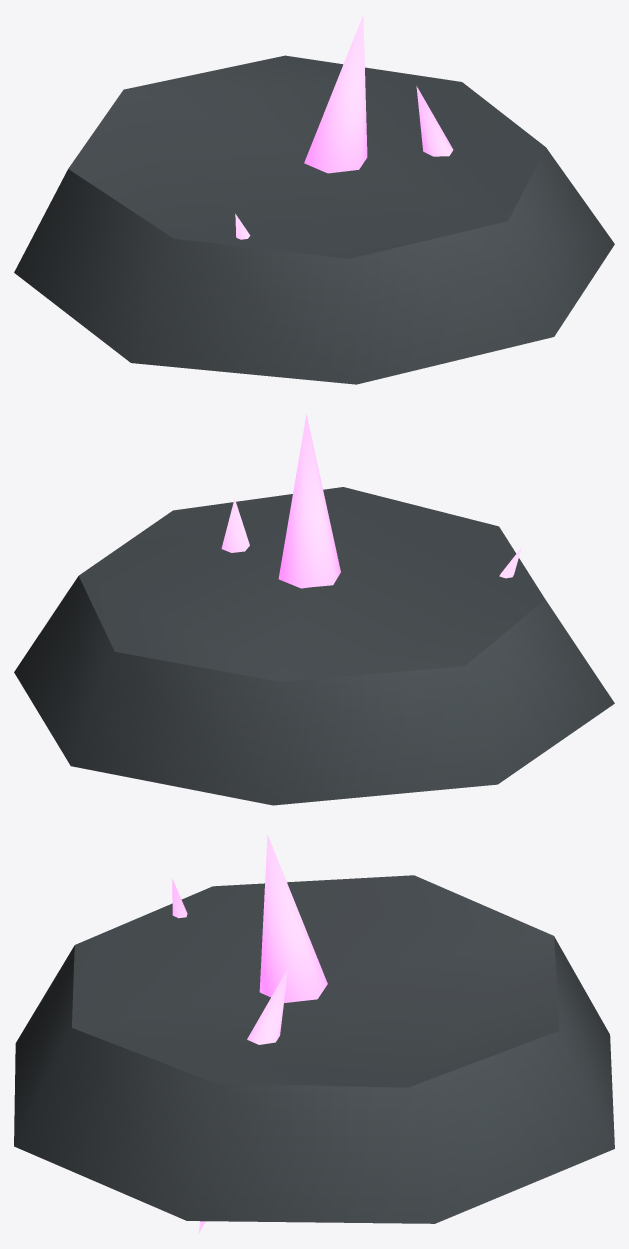
Rendered from crystal_small.glb.
3 renders of one model, top to bottom at view 1: azimuth 30°, elevation 25°; view 2: azimuth 150°, elevation 25°; view 3: azimuth 270°, elevation 25°, orthographic. The views are drawn at different scales.
Visible parts, largest first — view 1: crystal_small; view 2: crystal_small; view 3: crystal_small.
Part boxes in pixels (x1,y1,x2,y2): crystal_small: (14, 15, 614, 384); crystal_small: (14, 414, 614, 805); crystal_small: (14, 835, 614, 1233).
Size of the model in its own units: 1.77 by 1.13 by 1.76.
Materials: 2 (1 with a texture image).
